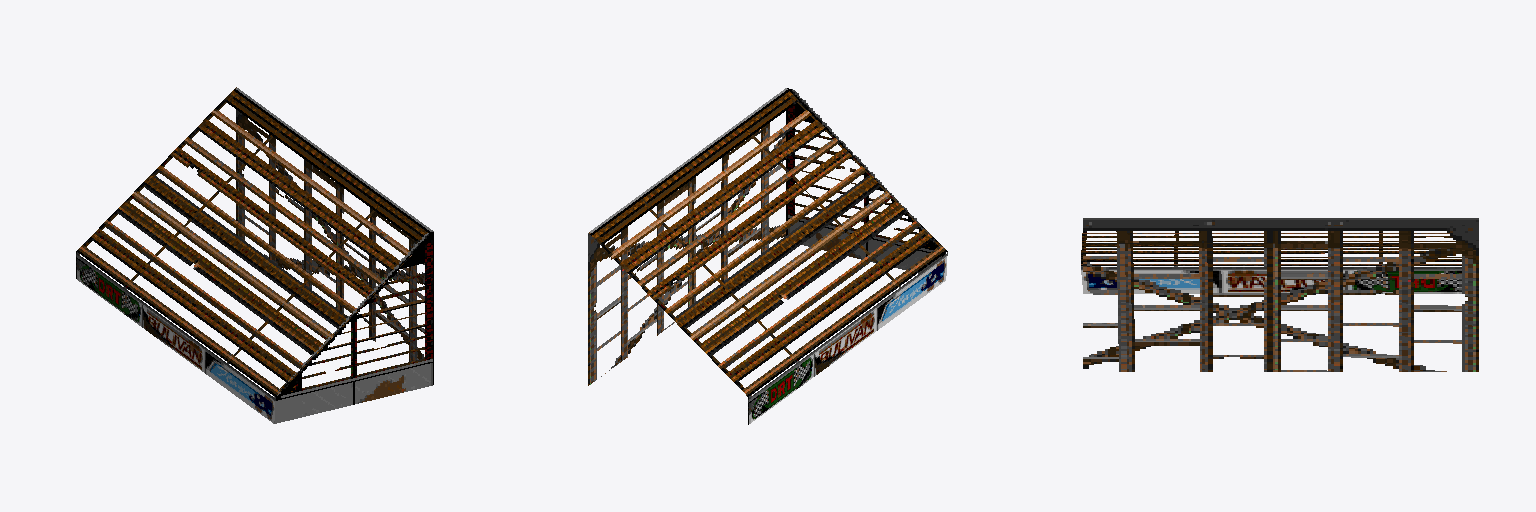
3 views of the same model, side by side, from view 1: azimuth 30°, elevation 25°; view 2: azimuth 150°, elevation 25°; view 3: azimuth 270°, elevation 25° (orthographic).
Size of the model in its own units: 132 by 121 by 285.
1 materials, 1 textured.